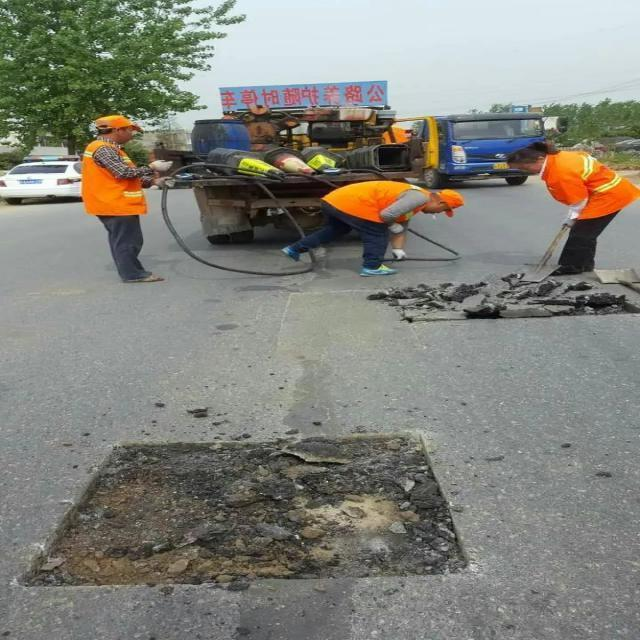pothole: (13, 426, 475, 598), (385, 280, 622, 328)
